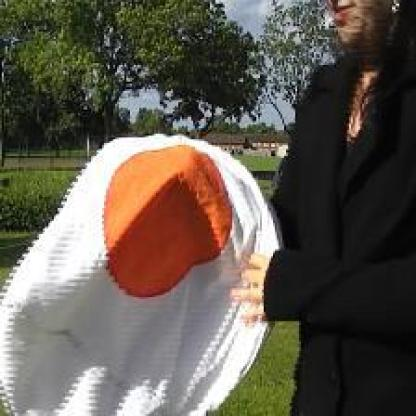other: (76, 134, 234, 301)
